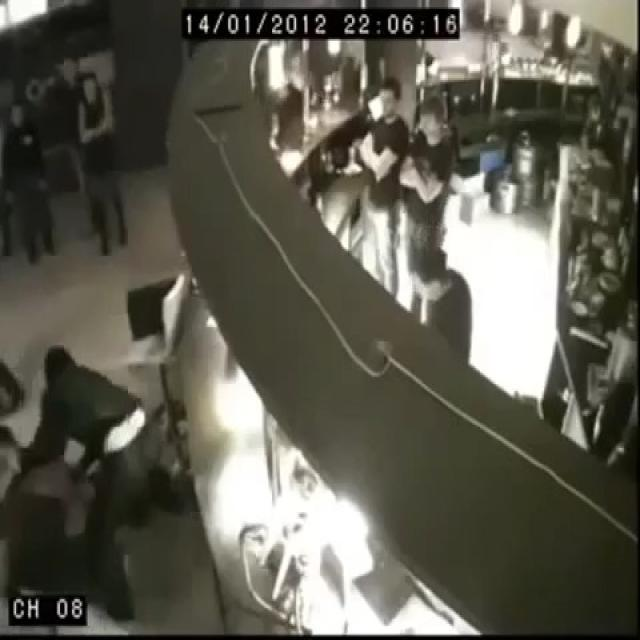fight: (6, 342, 158, 622)
